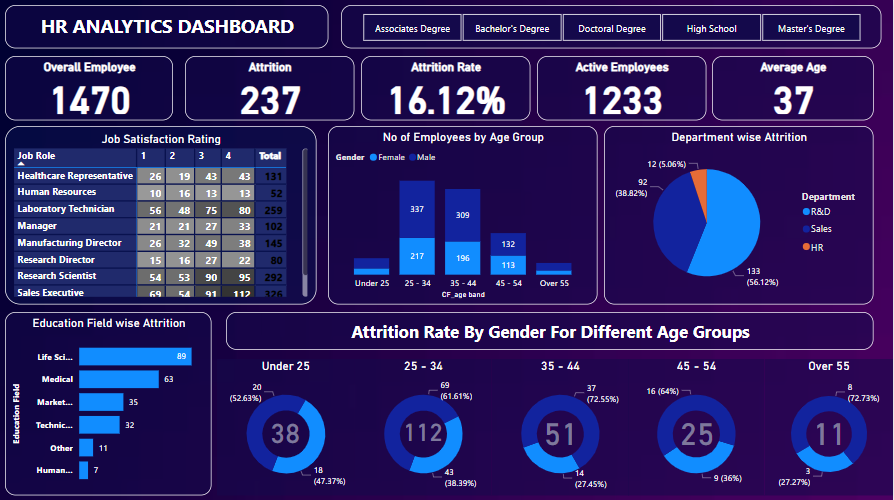

Layout of this report page (visuals, bound fields, positions):
{"tool":"powerbi","page":{"name":"HR DASHBOARD","canvas":[1280,720],"ordinal":0},"visuals":[{"type":"card","title":"Overall Employee","fields":{"Values":["Sum(HR data.Employee Count)"]},"box":[10.8,80,240,92.3],"z":0},{"type":"card","title":"Attrition Rate","fields":{"Values":["HR data.Attrition Rate"]},"box":[520,80,241.5,92.3],"z":1000},{"type":"card","title":"Active Employees","fields":{"Values":["HR data.Active employees"]},"box":[770.8,80,241.5,92.3],"z":2000},{"type":"card","title":"Average Age","fields":{"Values":["Avg(HR data.Age)"]},"box":[1021.5,80,230.8,92.3],"z":3000},{"type":"card","title":"Attrition","fields":{"Values":["Sum(HR data.Attrition Count)"]},"box":[269.2,80,241.5,92.3],"z":4000},{"type":"pieChart","title":"Department wise Attrition","fields":{"Category":["HR data.Department"],"Y":["Sum(HR data.Attrition Count)"]},"box":[867.7,180,384.6,255.4],"z":5000},{"type":"columnChart","title":"No of Employees by Age Group","fields":{"Category":["HR data.CF_age band"],"Y":["Sum(HR data.Employee Count)"],"Series":["HR data.Gender"]},"box":[472.3,180,384.6,255.4],"z":6000},{"type":"textbox","box":[10.8,7.7,461.5,61.5],"z":7000},{"type":"slicer","fields":{"Values":["HR data.Education"]},"box":[491.8,7.1,772.4,62.4],"z":8000},{"type":"pivotTable","title":"Job Satisfaction Rating","fields":{"Rows":["HR data.Job Role"],"Columns":["HR data.Job Satisfaction"],"Values":["Sum(HR data.Employee Count)"]},"box":[10.8,180,444.6,255.4],"z":9000},{"type":"barChart","title":"Education Field wise Attrition","fields":{"Category":["HR data.Education Field"],"Y":["Sum(HR data.Attrition Count)"]},"box":[10.8,446.2,295.4,261.5],"z":10000},{"type":"donutChart","title":"Under 25","fields":{"Category":["HR data.Gender"],"Series":["HR data.CF_age band"],"Y":["Sum(HR data.Attrition Count)"]},"box":[313.8,512.3,196.9,195.4],"z":11000,"group":"g1"},{"type":"textbox","box":[327.7,446.2,924.6,53.8],"z":11000},{"type":"card","fields":{"Values":["Sum(HR data.Attrition Count)"]},"box":[369.2,570.8,86.2,89.2],"z":12000},{"type":"donutChart","title":"25 - 34","fields":{"Category":["HR data.Gender"],"Series":["HR data.CF_age band"],"Y":["Sum(HR data.Attrition Count)"]},"box":[510.7,512.3,195.4,195.4],"z":13000,"group":"g1"},{"type":"card","fields":{"Values":["Sum(HR data.Attrition Count)"]},"box":[1146.2,581.5,86.2,67.7],"z":13000},{"type":"donutChart","title":"35 - 44","fields":{"Category":["HR data.Gender"],"Series":["HR data.CF_age band"],"Y":["Sum(HR data.Attrition Count)"]},"box":[706.1,512.3,195.4,195.4],"z":14000,"group":"g1"},{"type":"card","fields":{"Values":["Sum(HR data.Attrition Count)"]},"box":[566.2,581.5,84.6,67.7],"z":14000},{"type":"donutChart","title":"45 - 54","fields":{"Category":["HR data.Gender"],"Series":["HR data.CF_age band"],"Y":["Sum(HR data.Attrition Count)"]},"box":[901.5,512.3,195.4,195.4],"z":15000,"group":"g1"},{"type":"card","fields":{"Values":["Sum(HR data.Attrition Count)"]},"box":[761.5,581.5,86.2,67.7],"z":15000},{"type":"donutChart","title":"Over 55","fields":{"Category":["HR data.Gender"],"Series":["HR data.CF_age band"],"Y":["Sum(HR data.Attrition Count)"]},"box":[1096.9,512.3,183.1,195.4],"z":16000,"group":"g1"},{"type":"card","fields":{"Values":["Sum(HR data.Attrition Count)"]},"box":[956.9,570.8,86.2,89.2],"z":16000},{"type":"group","id":"g1","title":"Group 1","box":[313.8,512.3,966.2,195.4],"z":17000}]}

Visuals, with their boxes in screenshot pixels (x1, y1, x2, y2), scaled from the page's 1280x720 canvas onto the 894x500 screenshot:
"Overall Employee" card: 8:56:175:120
"Attrition Rate" card: 363:56:532:120
"Active Employees" card: 538:56:707:120
"Average Age" card: 713:56:875:120
"Attrition" card: 188:56:357:120
"Department wise Attrition" pieChart: 606:125:875:302
"No of Employees by Age Group" columnChart: 330:125:598:302
textbox: 8:5:330:48
slicer - HR data.Education: 343:5:883:48
"Job Satisfaction Rating" pivotTable: 8:125:318:302
"Education Field wise Attrition" barChart: 8:310:214:491
"Under 25" donutChart: 219:356:357:491
textbox: 229:310:875:347
card - Sum(HR data.Attrition Count): 258:396:318:458
"25 - 34" donutChart: 357:356:493:491
card - Sum(HR data.Attrition Count): 801:404:861:451
"35 - 44" donutChart: 493:356:630:491
card - Sum(HR data.Attrition Count): 395:404:455:451
"45 - 54" donutChart: 630:356:766:491
card - Sum(HR data.Attrition Count): 532:404:592:451
"Over 55" donutChart: 766:356:893:491
card - Sum(HR data.Attrition Count): 668:396:729:458
"Group 1" group: 219:356:893:491
